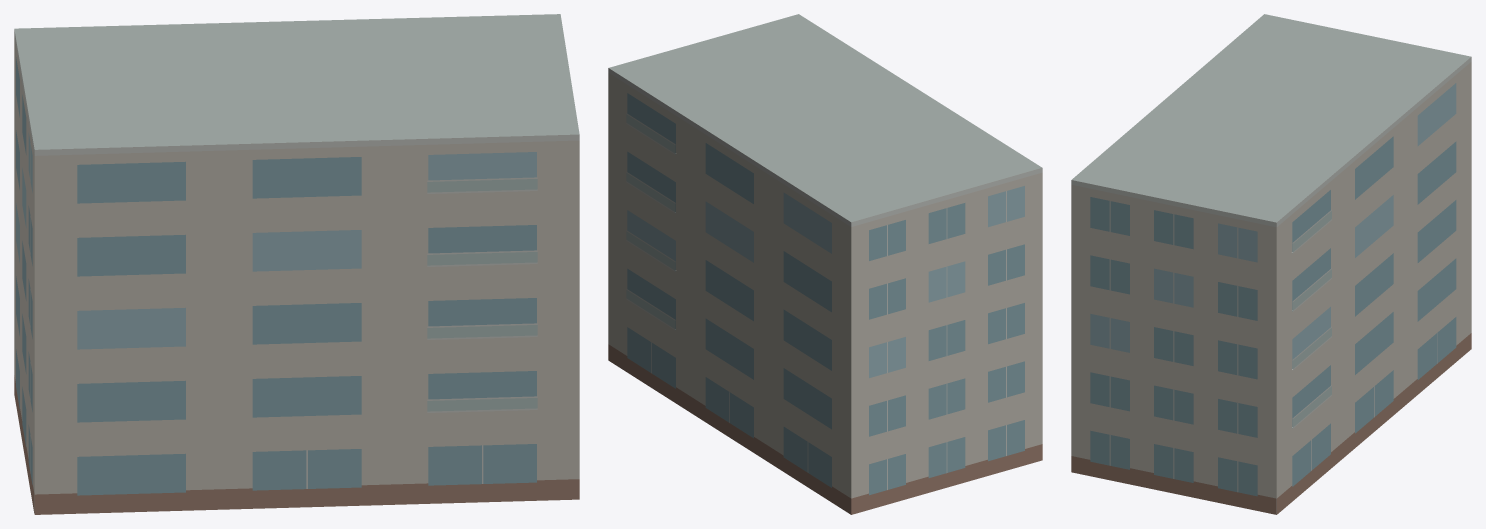
Rendered from survey-upis-32952551.glb.
The picture shows the model from 3 angles, left to right: view 1: azimuth 30°, elevation 25°; view 2: azimuth 150°, elevation 25°; view 3: azimuth 270°, elevation 25°; orthographic projection. The views are drawn at different scales.
Visible parts, largest first — view 1: survey-upis-32952551.tmp; view 2: survey-upis-32952551.tmp; view 3: survey-upis-32952551.tmp.
Part boxes in pixels (<box>): survey-upis-32952551.tmp: <box>14,14,579,514</box>; survey-upis-32952551.tmp: <box>608,14,1042,514</box>; survey-upis-32952551.tmp: <box>1071,14,1471,514</box>.
Size of the model in its own units: 22.81 by 14.9 by 18.5.
